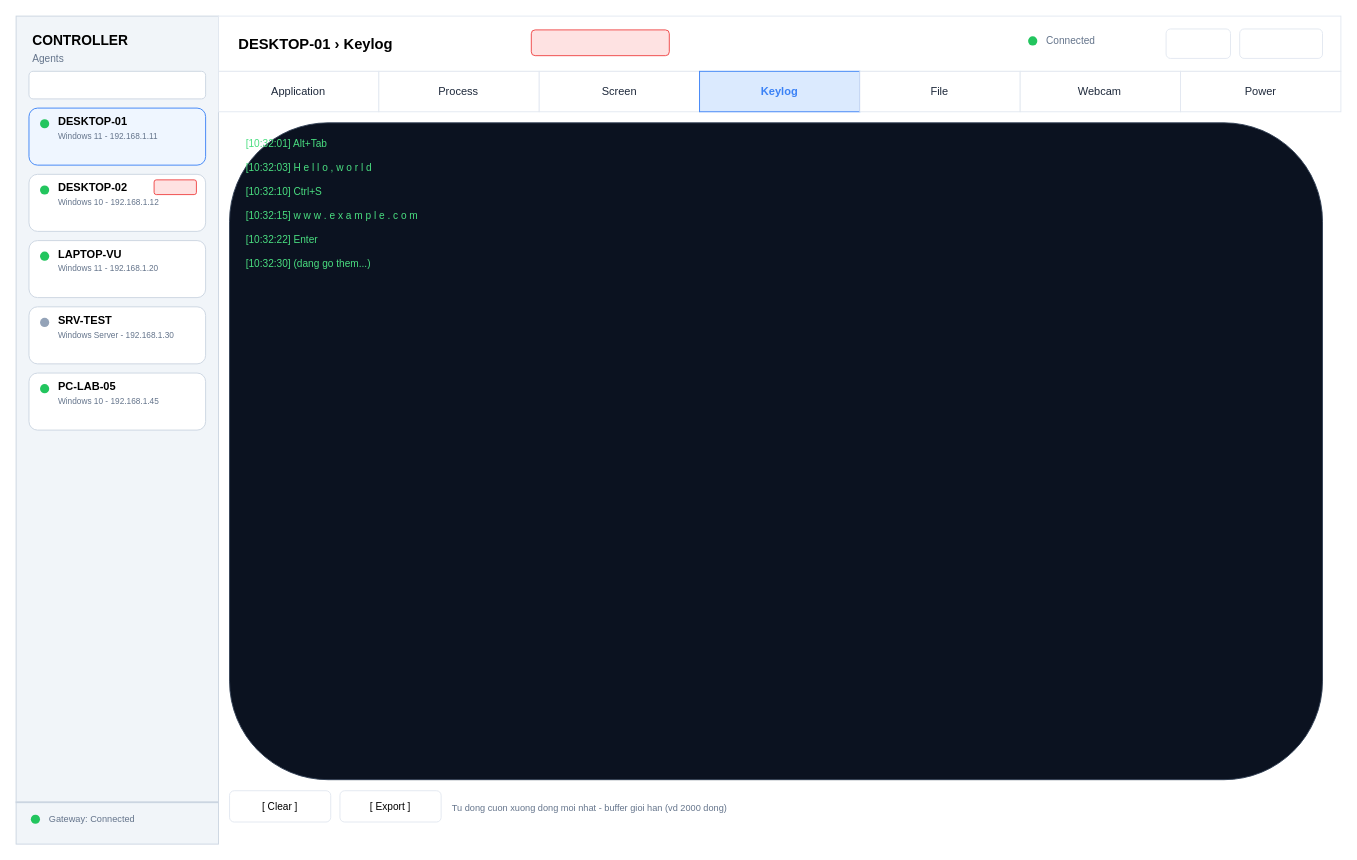
Some shapes in this 1357 by 860 pixel diagram are drawn without their labels. Here are the shapes that lost their labels. From the top down, the centre of each, then its label:
At [599,42]: "● DANG GHI PHIM".
At [1197,43]: "Theme".
At [1280,43]: "Admin ▾".
At [117,84]: "Search agent...".
At [174,187]: "SESSION".
